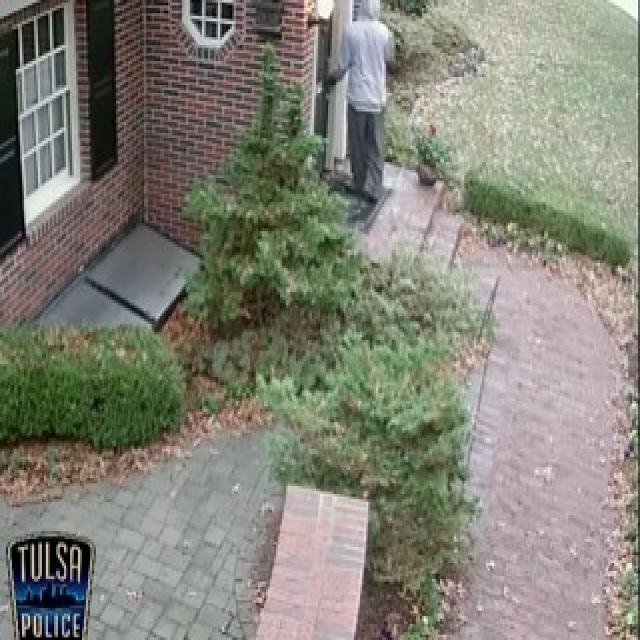burglary: (328, 4, 402, 210)
